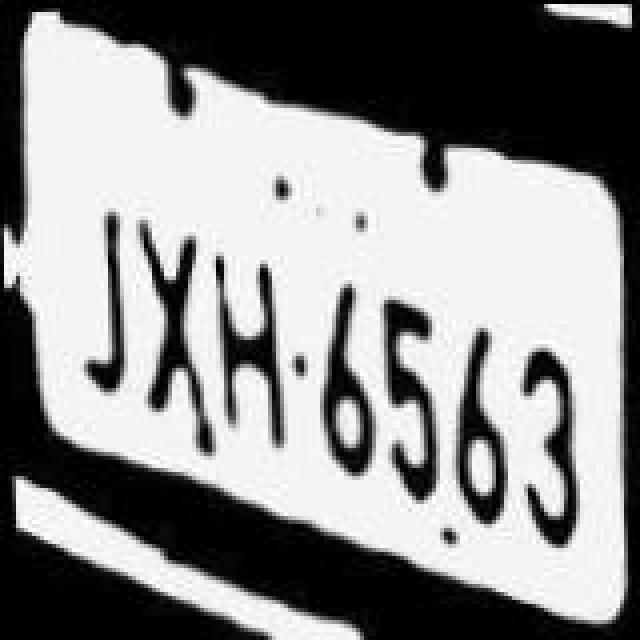3: (510, 286, 594, 554)
5: (372, 256, 448, 512)
6: (304, 250, 380, 514), (444, 260, 520, 516)
H: (204, 212, 292, 484)
J: (54, 136, 142, 408)
X: (128, 150, 212, 422)
